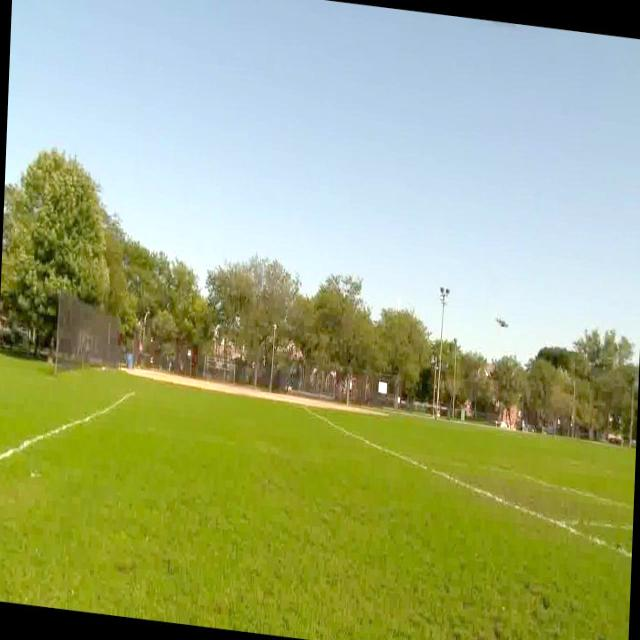drone: (496, 308, 513, 338)
